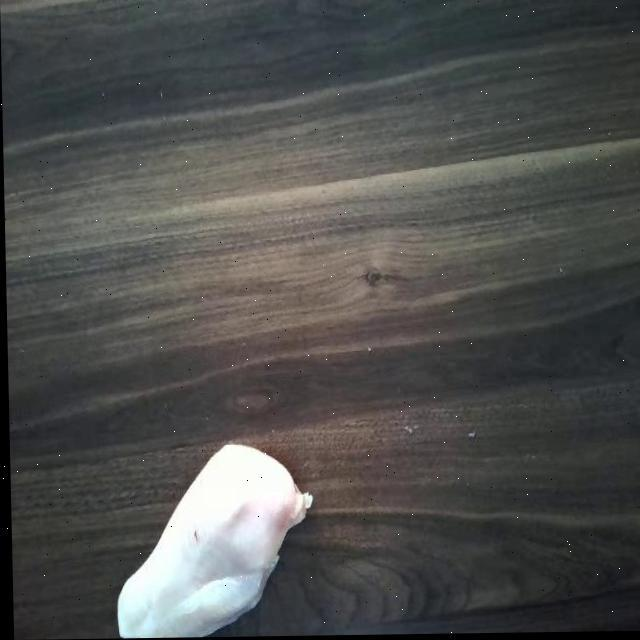breast: (124, 440, 300, 638)
